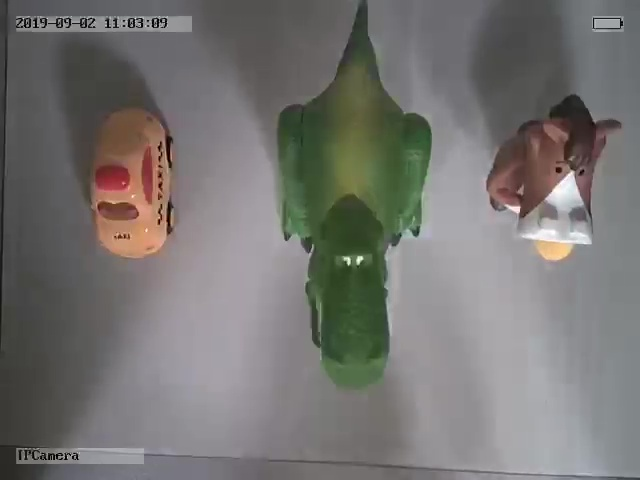car: (86, 104, 178, 262)
horse: (486, 92, 622, 264)
rex: (275, 3, 434, 389)
